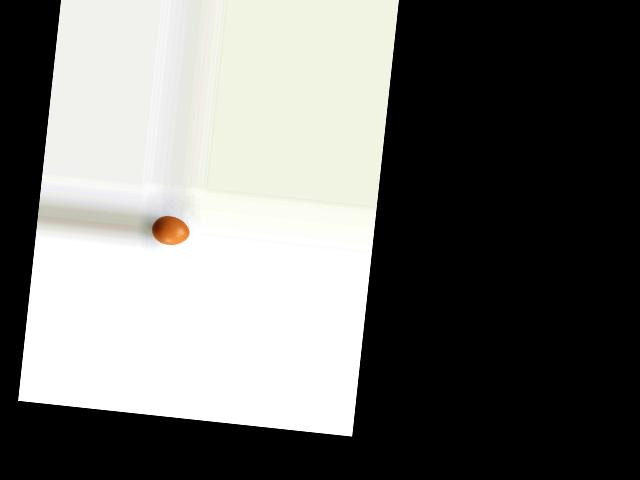egg: (149, 213, 191, 246)
